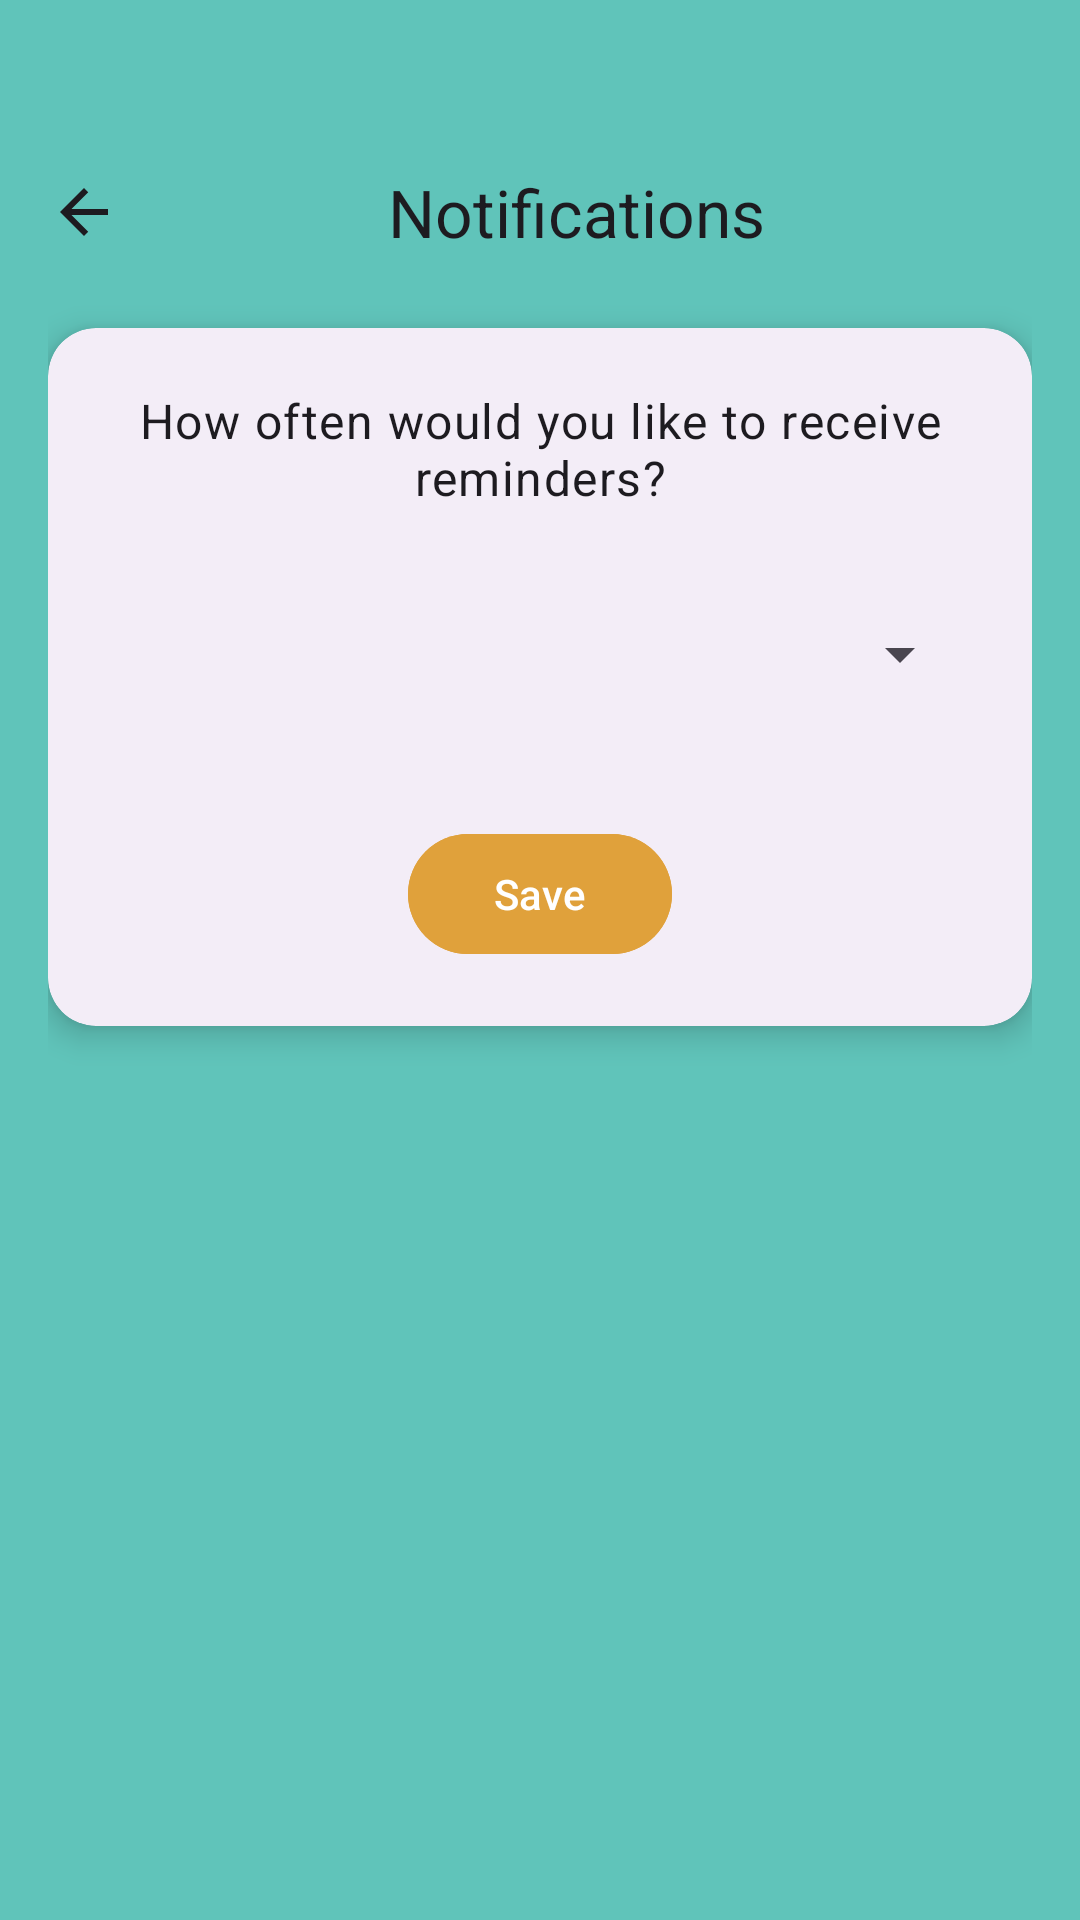

Icon bounding boxes for this 1080 × 1920 phone screenshot, format (x1, y1, x2, y2):
back arrow: (60, 188, 108, 236)
